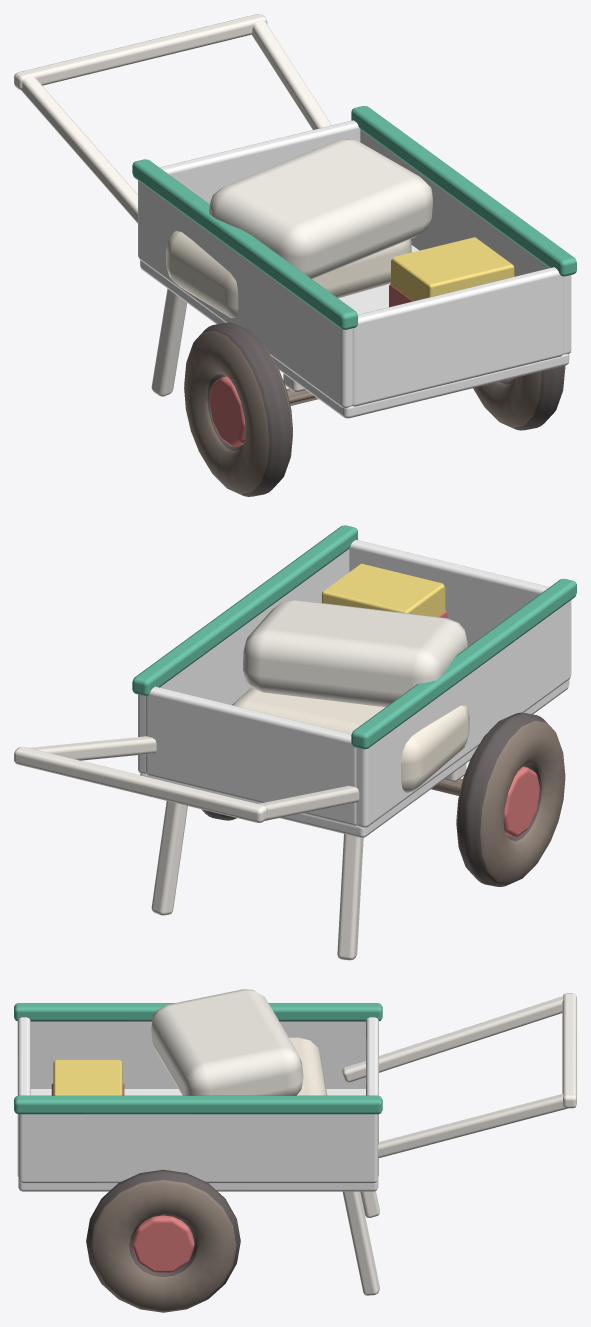
The model's file is prop_cart.glb.
The picture shows the model from 3 angles, top to bottom: view 1: azimuth 30°, elevation 25°; view 2: azimuth 150°, elevation 25°; view 3: azimuth 270°, elevation 25°; orthographic projection. The views are drawn at different scales.
Visible parts, largest first — view 1: prop_kariton; view 2: prop_kariton; view 3: prop_kariton.
Part boxes in pixels (bbox=[...]): prop_kariton: bbox=[14, 14, 576, 496]; prop_kariton: bbox=[14, 525, 576, 960]; prop_kariton: bbox=[14, 989, 576, 1312].
Bounding box in the file's own units: 1.07 × 0.856 × 1.94.
